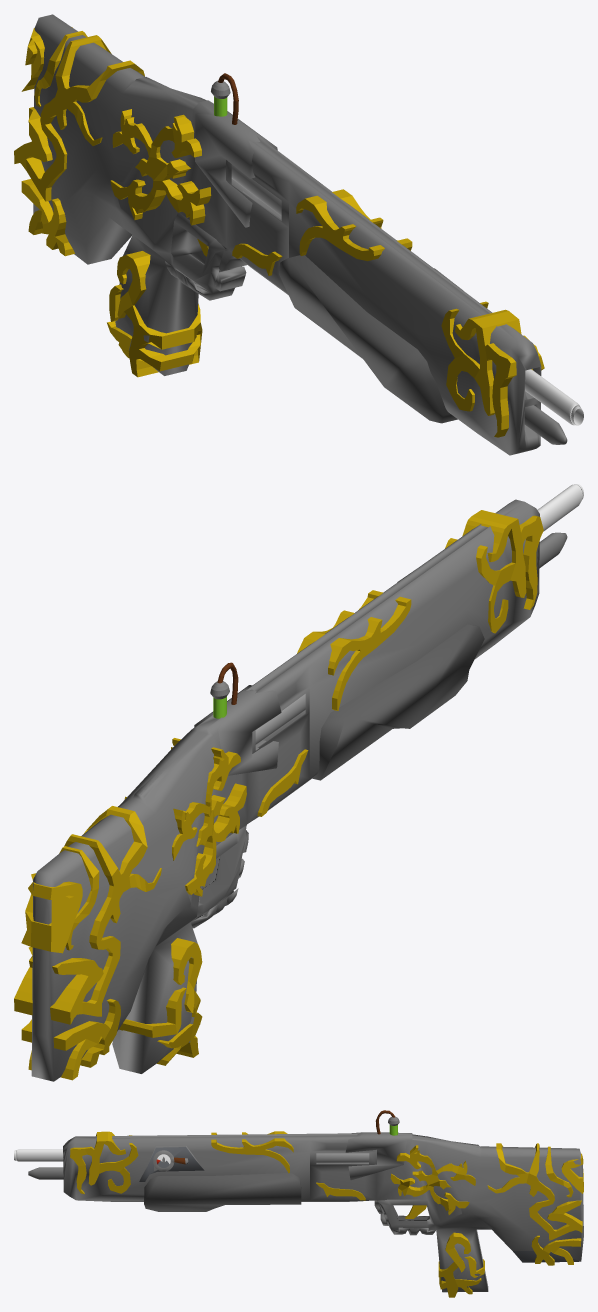
The model's file is Arma1.fbx.
The picture shows the model from 3 angles, top to bottom: view 1: azimuth 30°, elevation 25°; view 2: azimuth 150°, elevation 25°; view 3: azimuth 270°, elevation 25°; orthographic projection. The views are drawn at different scales.
Visible parts, largest first — view 1: Cube, Cube.001, Cylinder.001, Cylinder; view 2: Cube, Cube.001, Cylinder.001, Cylinder; view 3: Cube, Cube.001, Cylinder.001, Cylinder.
Part boxes in pixels (<box>): Cube: <box>14,14,567,455</box>; Cube.001: <box>279,255,457,423</box>; Cylinder.001: <box>525,369,583,425</box>; Cylinder: <box>231,164,281,215</box>; Cube: <box>14,499,567,1081</box>; Cube.001: <box>312,624,484,780</box>; Cylinder.001: <box>537,484,583,531</box>; Cylinder: <box>255,694,305,744</box>; Cube: <box>28,1110,583,1297</box>; Cube.001: <box>144,1173,301,1211</box>; Cylinder.001: <box>14,1149,63,1161</box>; Cylinder: <box>316,1153,369,1163</box>.
Size of the model in its own units: 38.94 by 165 by 474.
